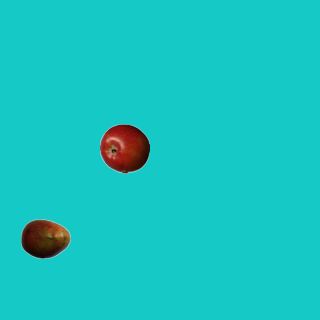Apple Braeburn: (99, 123, 149, 173)
Mango Red: (20, 213, 70, 263)
